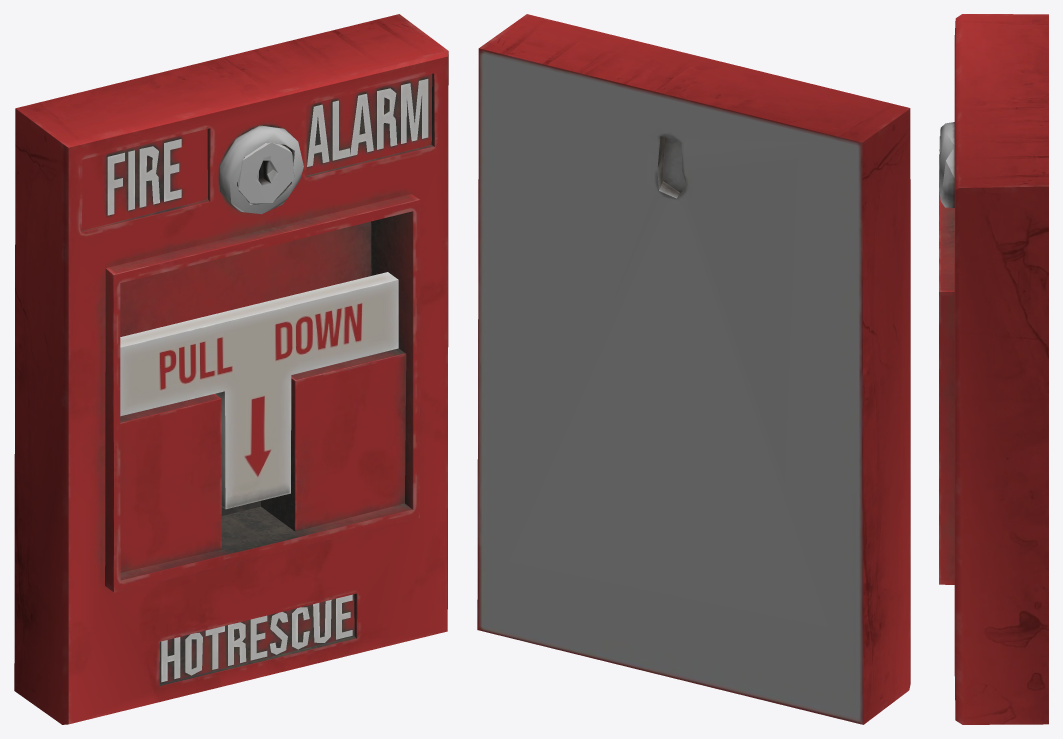
The model's file is fire_alarm.glb.
3 renders of one model, left to right at view 1: azimuth 30°, elevation 25°; view 2: azimuth 150°, elevation 25°; view 3: azimuth 270°, elevation 25°, orthographic. The views are drawn at different scales.
Parts seen in each view (by area): view 1: fire_alarm; view 2: fire_alarm; view 3: fire_alarm.
Part boxes in pixels (x1=…): fire_alarm: x1=14, y1=14, x2=448, y2=724; fire_alarm: x1=477, y1=14, x2=910, y2=724; fire_alarm: x1=939, y1=14, x2=1048, y2=724.
Bounding box in the file's own units: 0.1583 × 0.2285 × 0.0422.
1 material, 1 textured.
